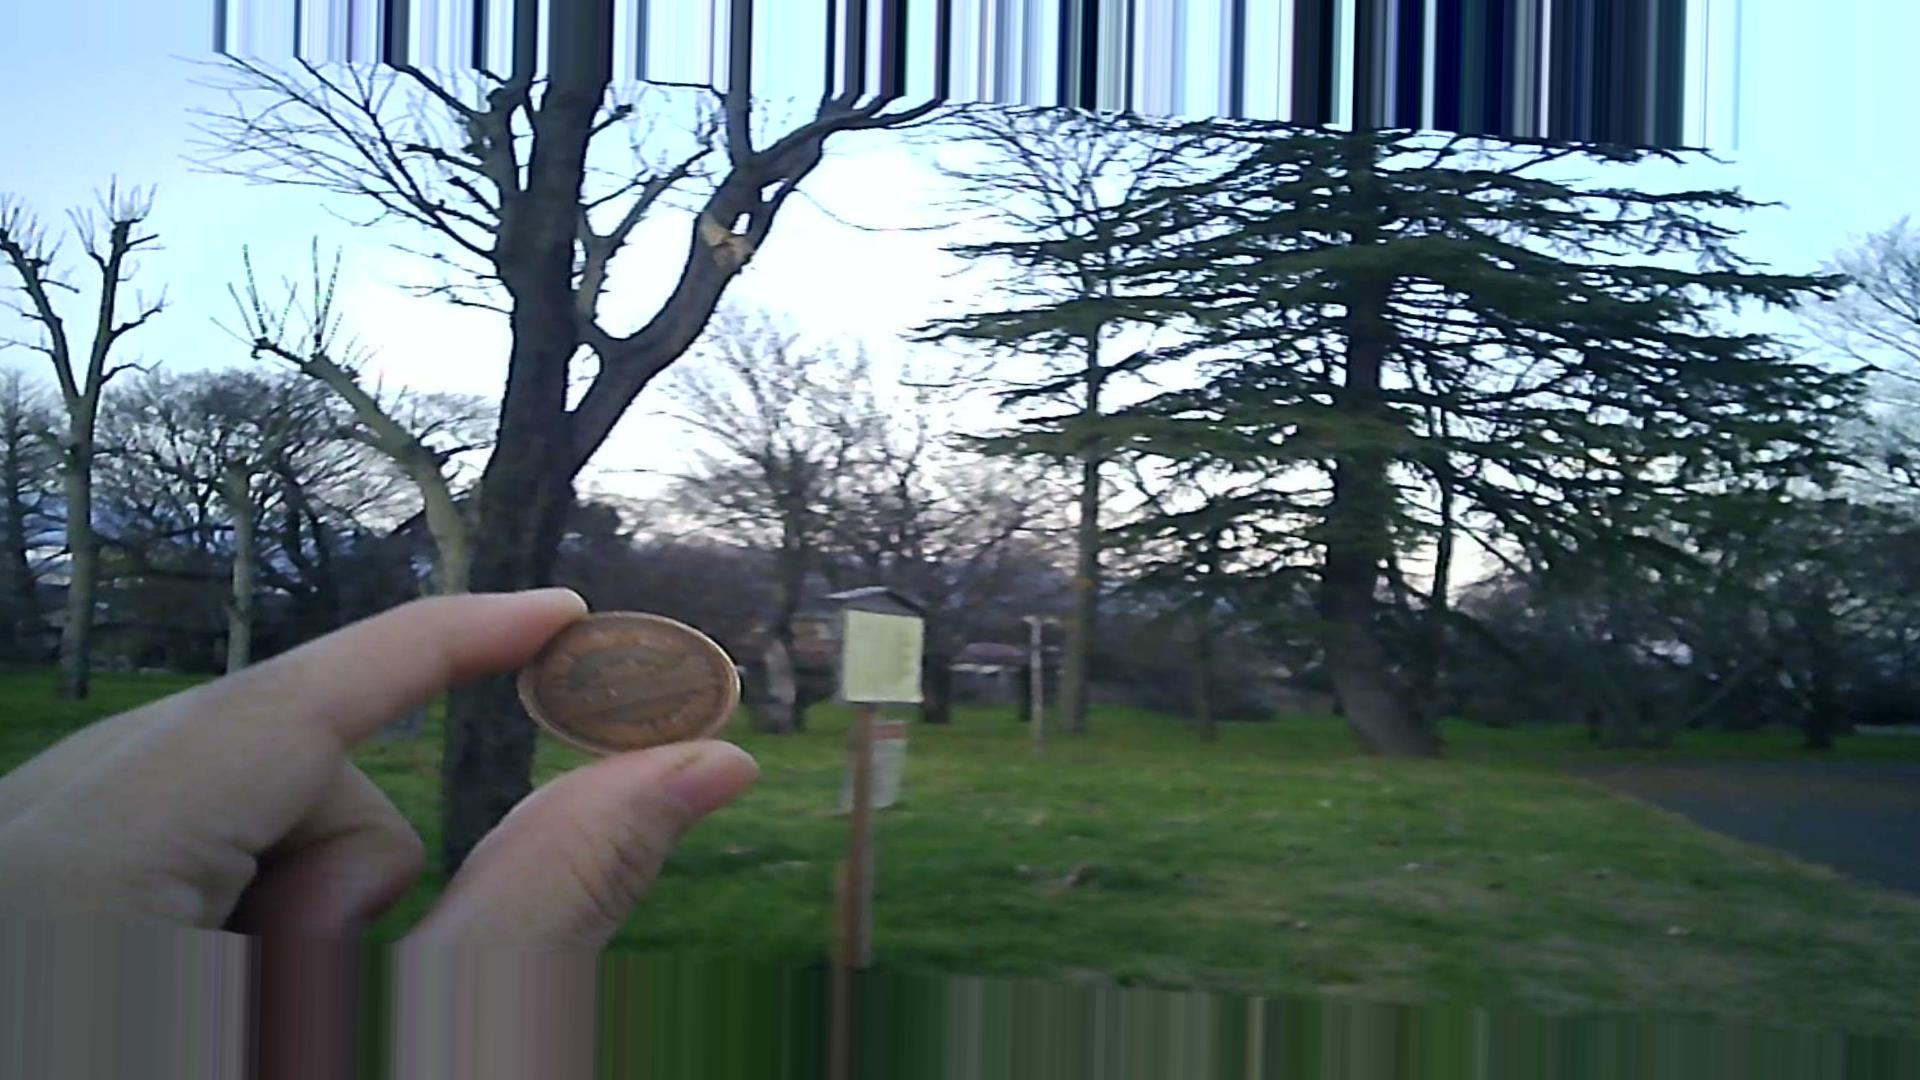10 Yen: (510, 608, 742, 765)
